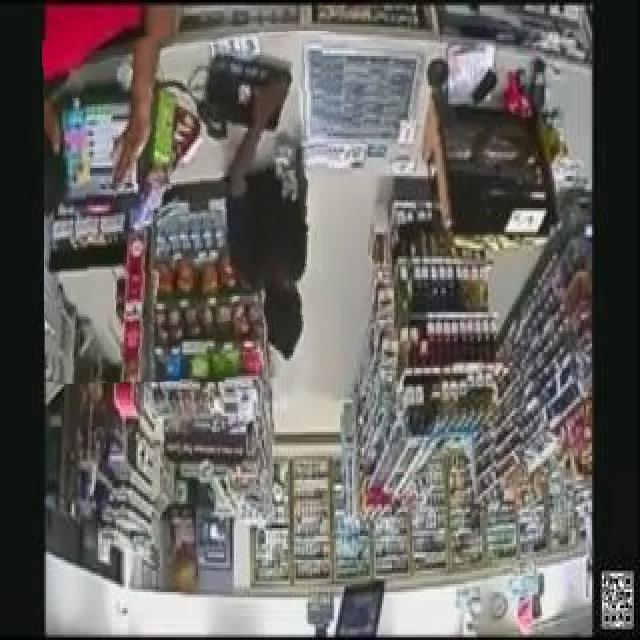Shoplifting: (44, 33, 338, 382)
